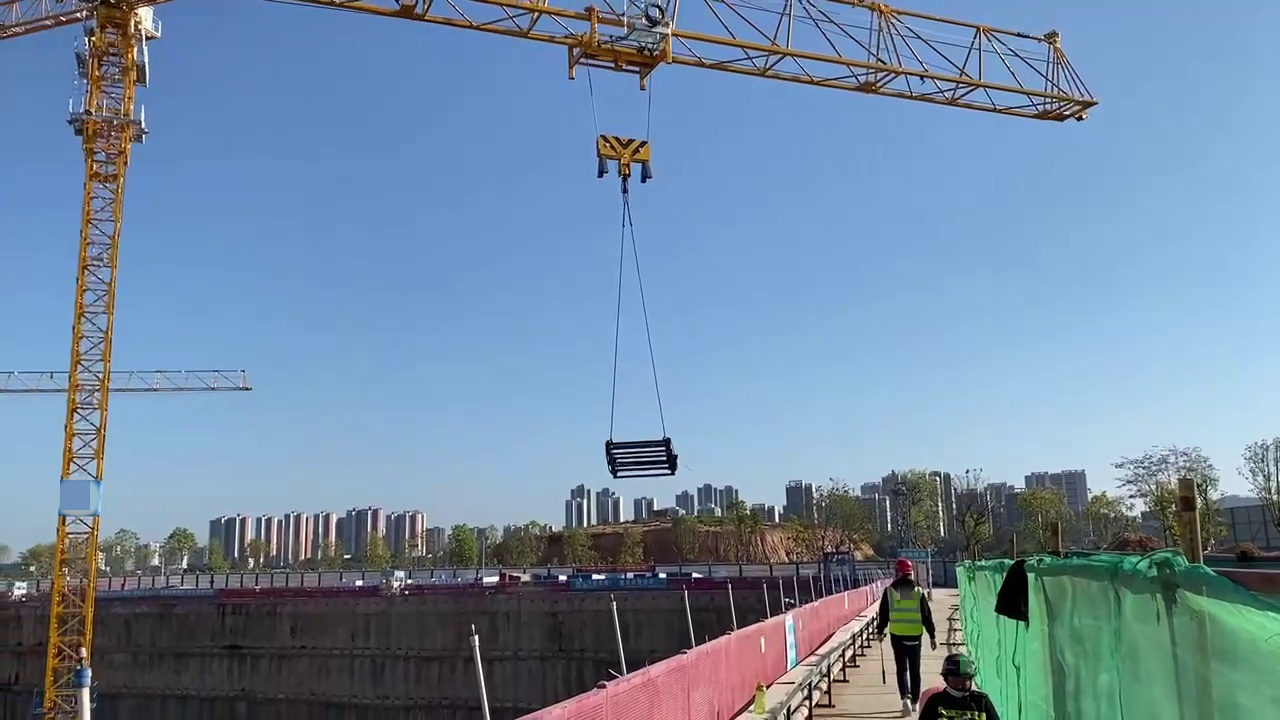fence: (483, 584, 876, 720)
helmet: (942, 653, 976, 678), (893, 558, 914, 575)
hook: (594, 130, 656, 180)
person: (881, 556, 932, 707), (930, 650, 997, 720)
vest: (886, 587, 922, 638)
